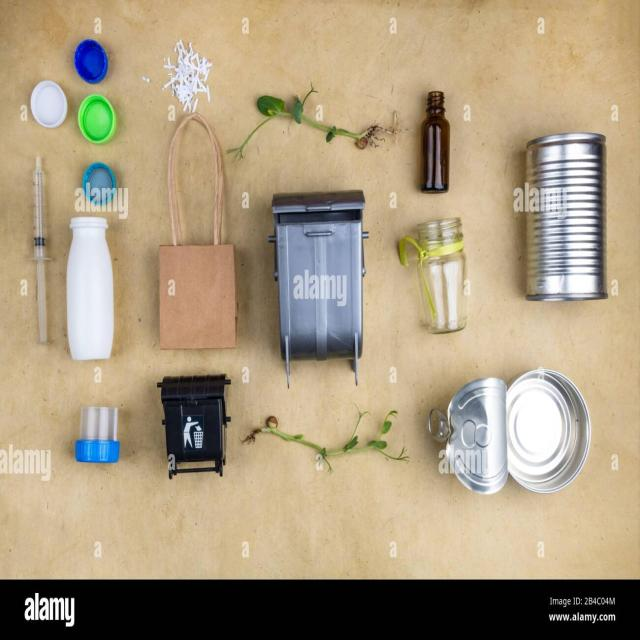glass: (404, 213, 481, 336), (69, 396, 130, 479)
metal: (433, 368, 601, 502), (513, 128, 617, 307)
plastic: (410, 86, 464, 200)
